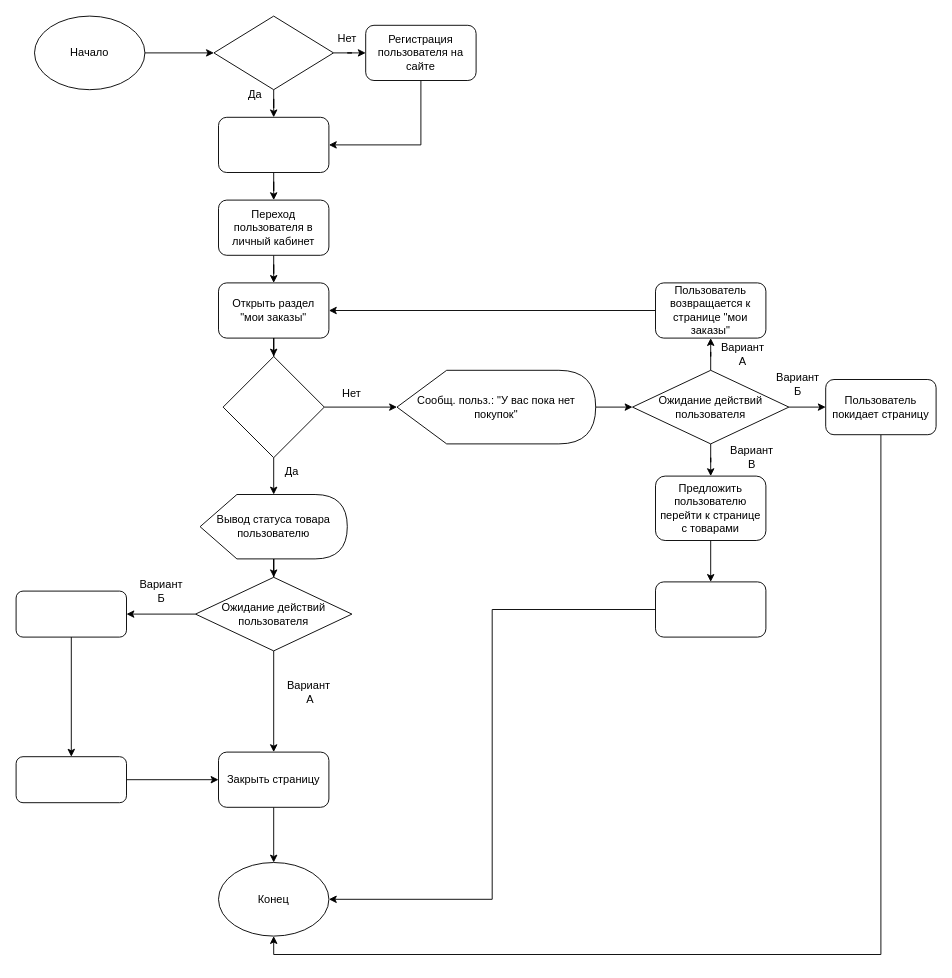
Some shapes in this 952 by 978 pixel diagram are drawn without their labels. Here are the shapes that lost their labels. From the top down, the box of each, then its label:
(213, 15, 334, 90): Зарегестрирован?
(218, 116, 329, 172): Авторизоваться пользователя на сайте
(222, 356, 324, 458): Были ли товары найдены?
(15, 590, 126, 637): Клик по конкретному заказу
(655, 581, 766, 637): Пользователь переходит к товарам и покидает страницу с заказами
(15, 756, 126, 803): Просмотр деталей заказа
